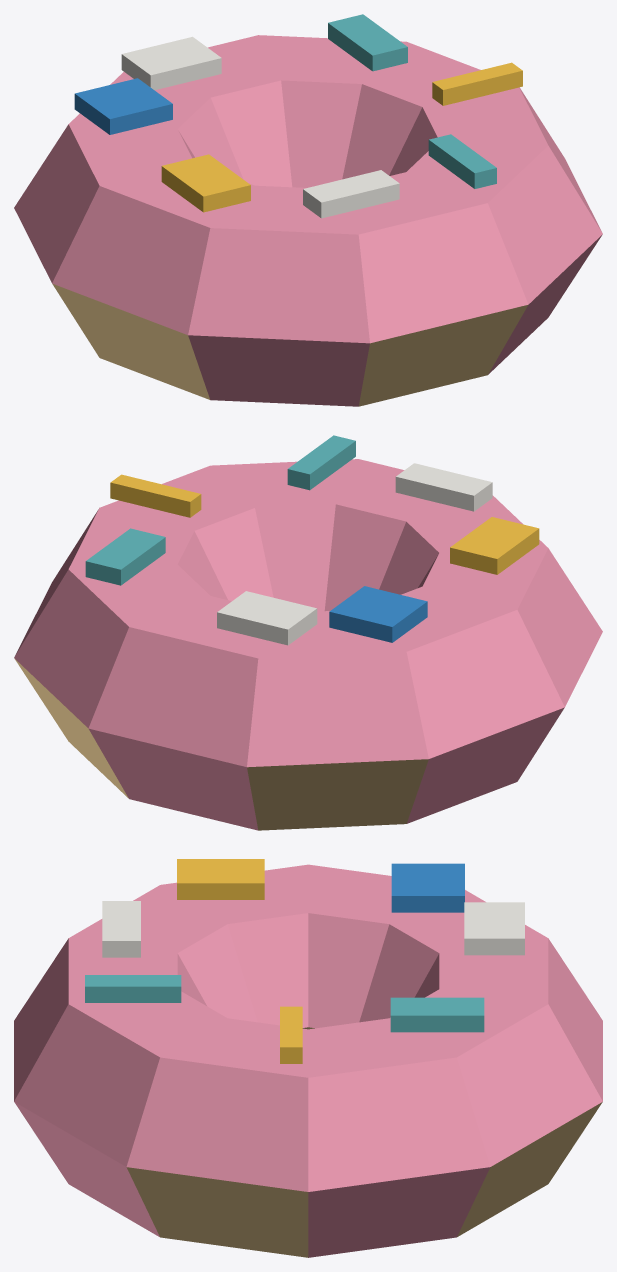
The model's file is J_Donut.fbx.
3 renders of one model, top to bottom at view 1: azimuth 30°, elevation 25°; view 2: azimuth 150°, elevation 25°; view 3: azimuth 270°, elevation 25°, orthographic. The views are drawn at different scales.
Visible parts, largest first — view 1: J_Donut; view 2: J_Donut; view 3: J_Donut.
Boxes of the visible parts, x1,y1,x2,y2 form: J_Donut: (14,14,602,406); J_Donut: (14,435,602,830); J_Donut: (14,859,602,1257).
Bounding box in the file's own units: 0.54 × 0.1986 × 0.5136.
